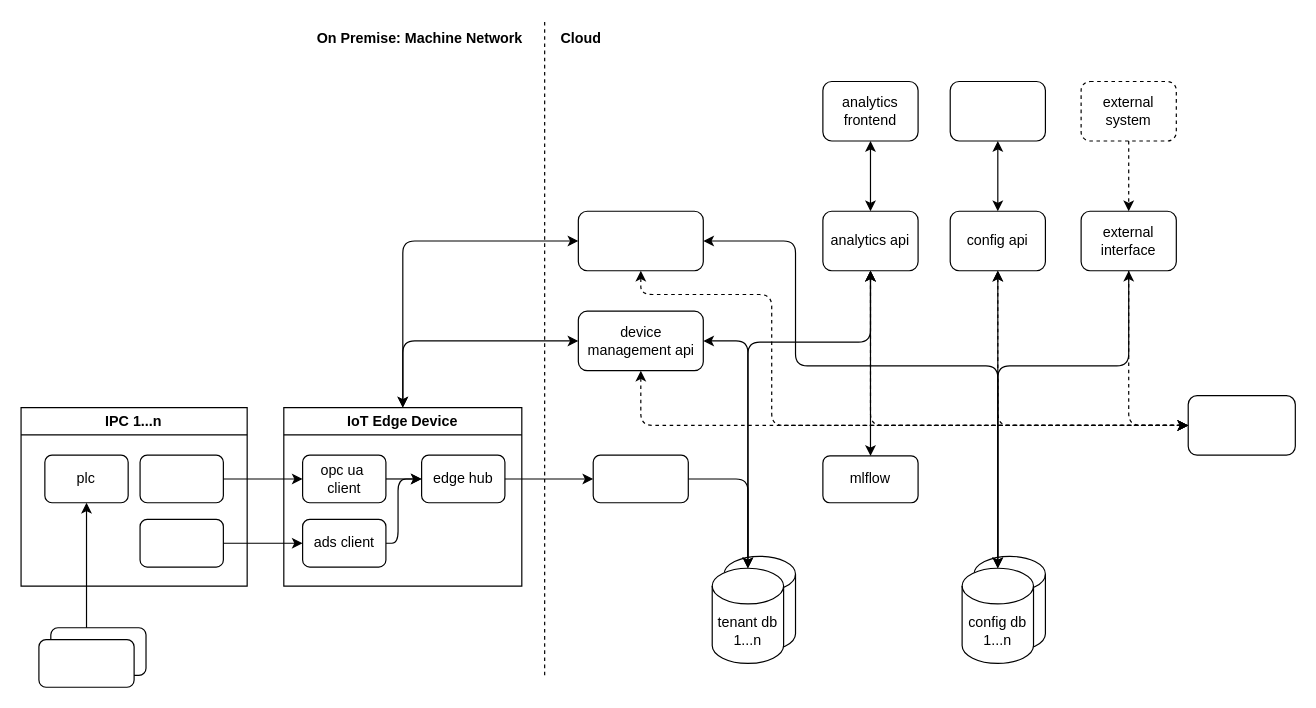
Image size: 1316x708. Some labels were removed from this diagram. Here are the shapes that lost their labels. From the top down, the centre of each, then its label:
At point (997, 110): "configuration web app".
At point (640, 240): "protocol mangamement api".
At point (1241, 424): "user management".
At point (181, 478): "opc ua server".
At point (640, 478): "hub".
At point (181, 542): "ads server".
At point (86, 662): "sensor 1...n".
